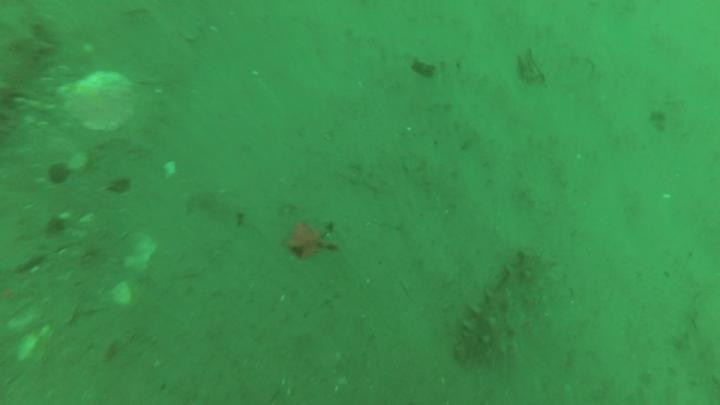holothurian: (457, 252, 556, 363)
scallop: (57, 72, 138, 134)
